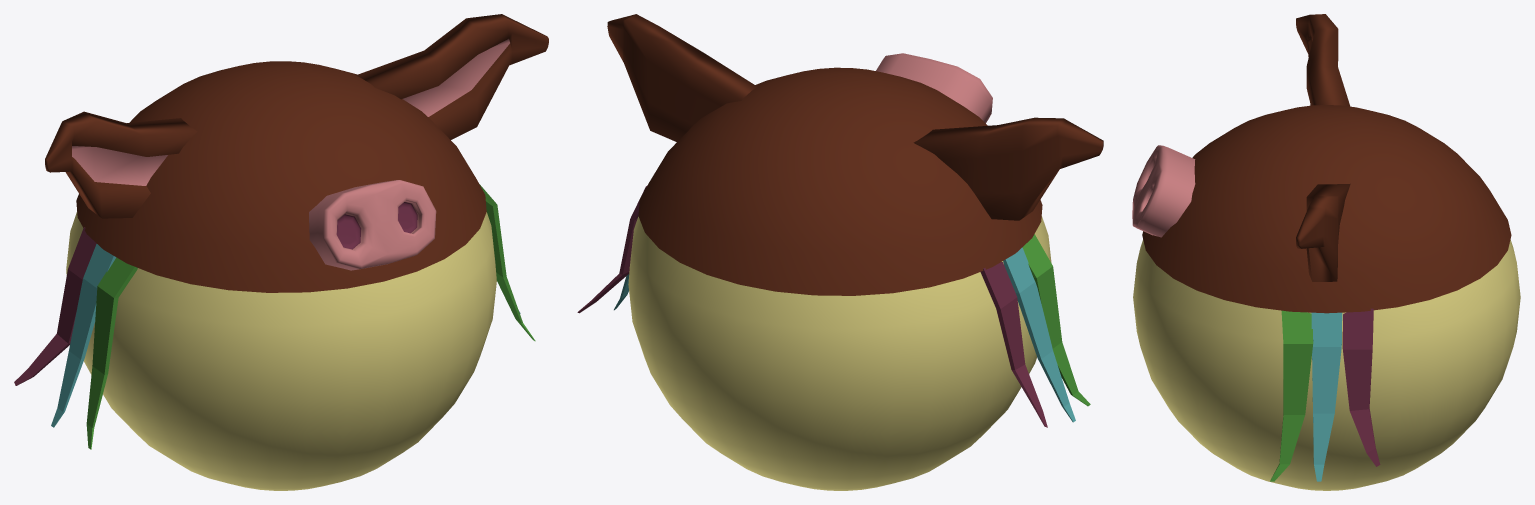
File: bolitas12.fbx
The picture shows the model from 3 angles, left to right: view 1: azimuth 30°, elevation 25°; view 2: azimuth 150°, elevation 25°; view 3: azimuth 270°, elevation 25°; orthographic projection. The views are drawn at different scales.
Parts seen in each view (by area): view 1: Sphere, Sphere.001, Cube, Cube.007, Cube.002; view 2: Sphere, Sphere.001, Cube, Cube.007, Cube.002; view 3: Sphere.001, Sphere, Cube.007, Cube, Cube.002.
Boxes of the visible parts, x1,y1,x2,y2 form: Sphere: [66, 211, 496, 490]; Sphere.001: [76, 61, 486, 292]; Cube: [45, 14, 548, 218]; Cube.007: [14, 184, 535, 449]; Cube.002: [309, 180, 436, 270]; Sphere: [628, 216, 1051, 490]; Sphere.001: [638, 67, 1042, 295]; Cube: [607, 14, 1103, 220]; Cube.007: [577, 185, 1090, 427]; Cube.002: [876, 53, 992, 123]; Sphere.001: [1142, 105, 1511, 313]; Sphere: [1133, 239, 1520, 490]; Cube.007: [1270, 308, 1380, 481]; Cube: [1296, 14, 1350, 281]; Cube.002: [1132, 145, 1195, 237].
Size of the model in its own units: 269 by 207 by 200.
